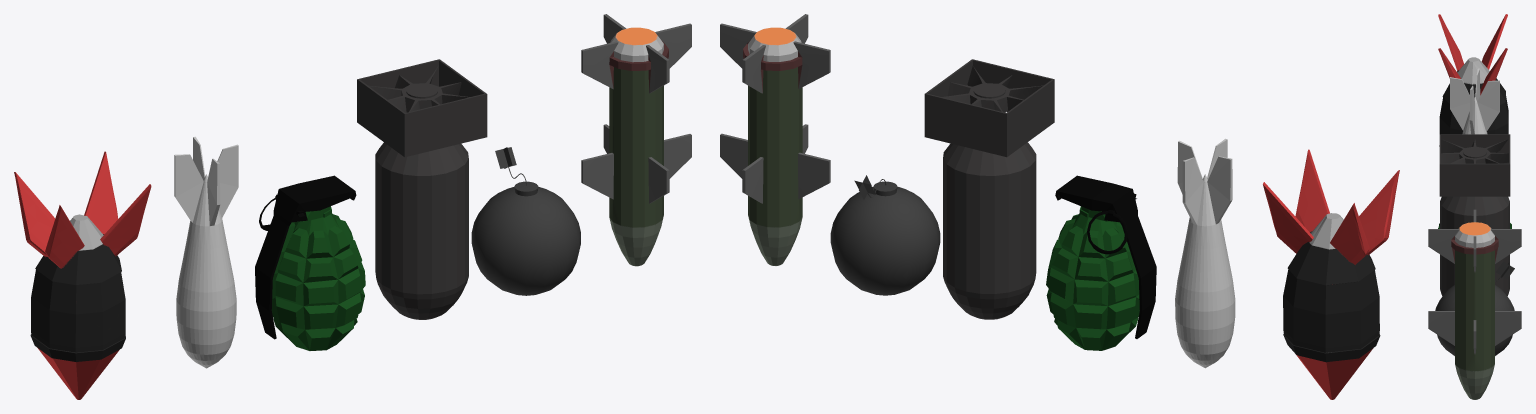
Rendered from All bomb.FBX.
The picture shows the model from 3 angles, left to right: view 1: azimuth 30°, elevation 25°; view 2: azimuth 150°, elevation 25°; view 3: azimuth 270°, elevation 25°; orthographic projection. The views are drawn at different scales.
Parts seen in each view (by area): view 1: Bomb_nguyen_tu, bomb_4_canh_to, bomb_ten_lua_1, Bomb_luu_dan, Bomb_4_canh, Qua_bomb; view 2: Bomb_nguyen_tu, bomb_4_canh_to, bomb_ten_lua_1, Bomb_luu_dan, Bomb_4_canh, Qua_bomb; view 3: bomb_ten_lua_1, Bomb_nguyen_tu, bomb_4_canh_to, Bomb_4_canh, Qua_bomb.
Part boxes in pixels (x1,y1,x2,y2): Bomb_nguyen_tu: (357, 59, 487, 319); bomb_4_canh_to: (14, 151, 151, 399); bomb_ten_lua_1: (581, 14, 691, 266); Bomb_luu_dan: (255, 175, 365, 350); Bomb_4_canh: (174, 136, 238, 368); Qua_bomb: (471, 147, 580, 295); Bomb_nguyen_tu: (924, 59, 1054, 319); bomb_4_canh_to: (1263, 149, 1399, 399); bomb_ten_lua_1: (720, 14, 830, 265); Bomb_luu_dan: (1046, 175, 1156, 350); Bomb_4_canh: (1175, 138, 1235, 368); Qua_bomb: (830, 175, 940, 295); bomb_ten_lua_1: (1428, 209, 1521, 399); Bomb_nguyen_tu: (1439, 134, 1510, 296); bomb_4_canh_to: (1438, 14, 1508, 146); Bomb_4_canh: (1450, 68, 1499, 134); Qua_bomb: (1435, 261, 1514, 355).
Bounding box in the file's own units: 683 × 229 × 114.
